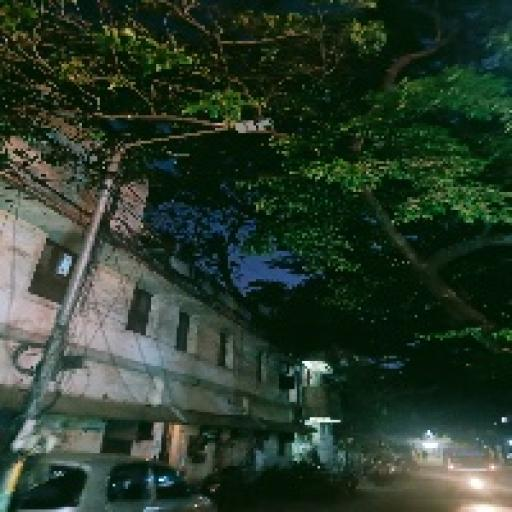Not Working: (219, 110, 279, 142)
